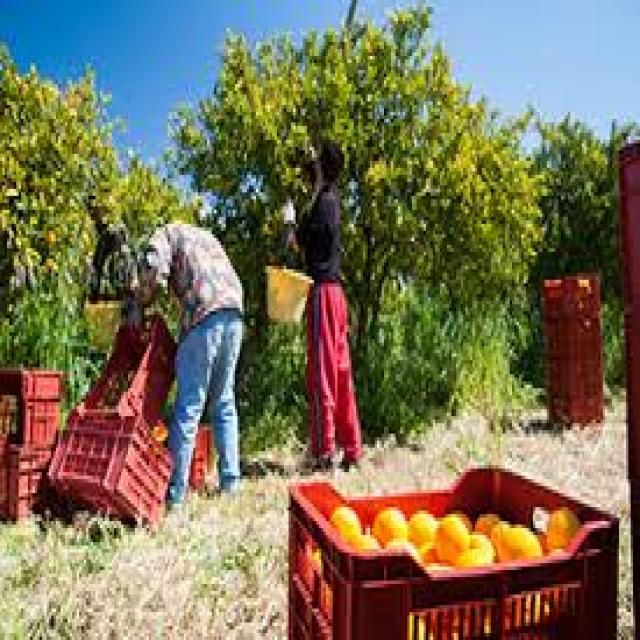basket: (291, 468, 622, 640), (41, 301, 205, 531), (621, 140, 640, 638), (0, 371, 63, 519), (544, 273, 605, 422)
